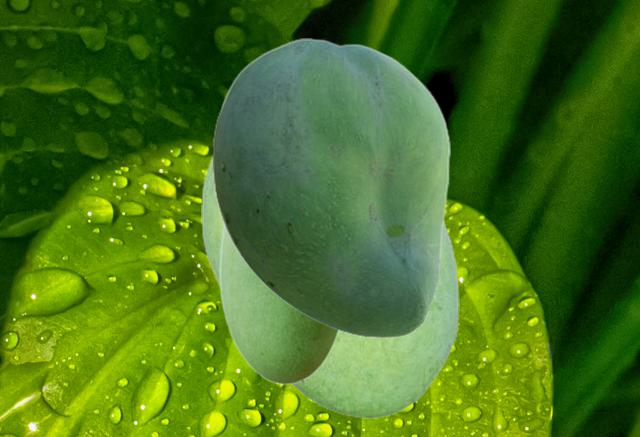green_mango: (212, 38, 449, 337), (201, 151, 458, 417), (218, 220, 340, 384)
